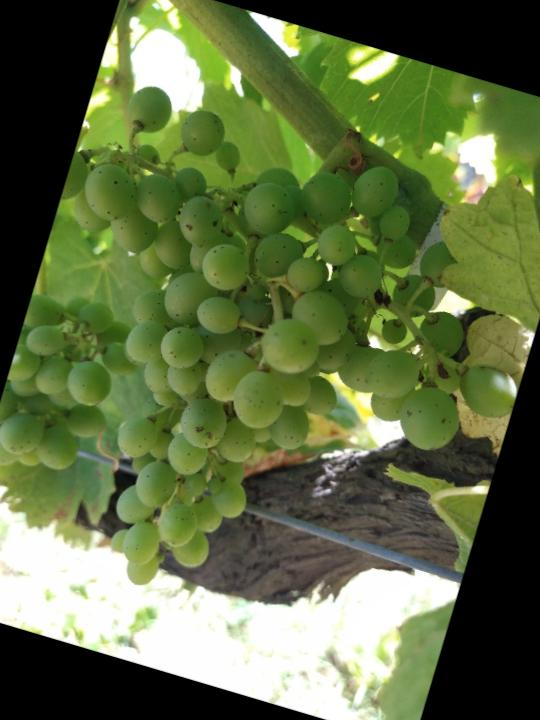grape: (0, 71, 540, 673)
